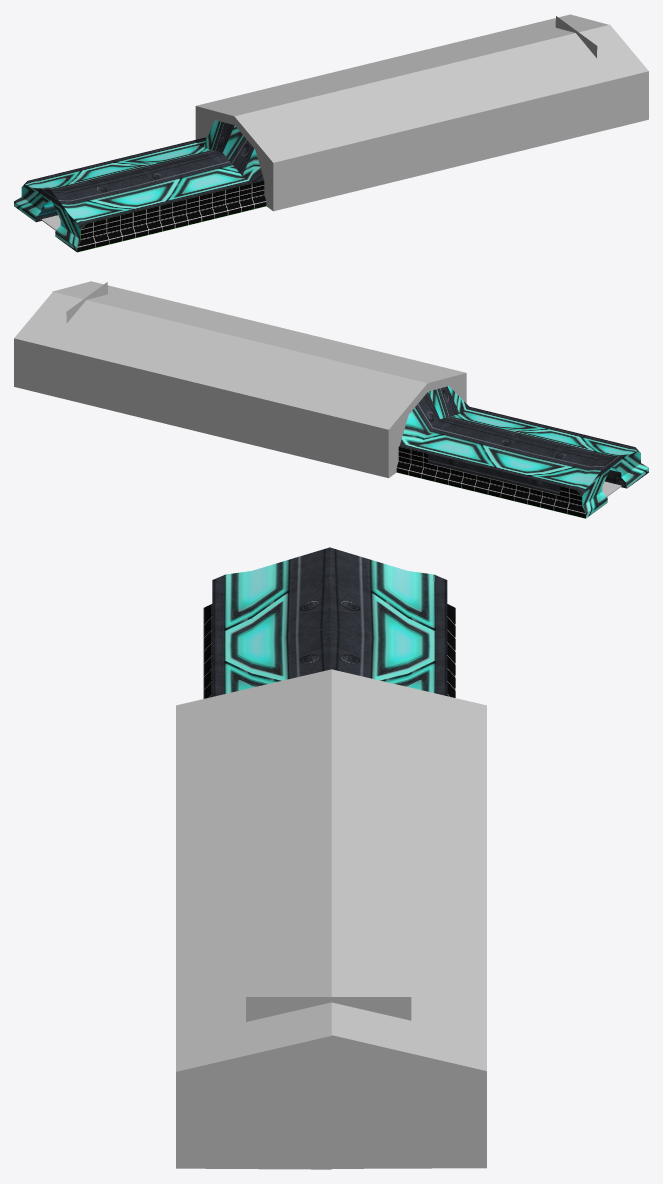
File: Bunker.FBX
3 views of the same model, one above another, from view 1: azimuth 30°, elevation 25°; view 2: azimuth 150°, elevation 25°; view 3: azimuth 270°, elevation 25° (orthographic). The views are drawn at different scales.
Visible parts, largest first — view 1: Interior, Entrada, ParedB; view 2: Interior, Entrada, ParedB; view 3: Interior, Entrada, ParedB.
Part boxes in pixels (left/top/right/bottom): Interior: left=195, top=14, right=648, bottom=211; Entrada: left=14, top=120, right=266, bottom=252; ParedB: left=555, top=16, right=597, bottom=57; Interior: left=14, top=281, right=466, bottom=478; Entrada: left=396, top=386, right=648, bottom=518; ParedB: left=66, top=282, right=107, bottom=323; Interior: left=176, top=669, right=486, bottom=1169; Entrada: left=203, top=547, right=455, bottom=698; ParedB: left=246, top=997, right=411, bottom=1021.
Size of the model in its own units: 20251 by 2587 by 4833.
